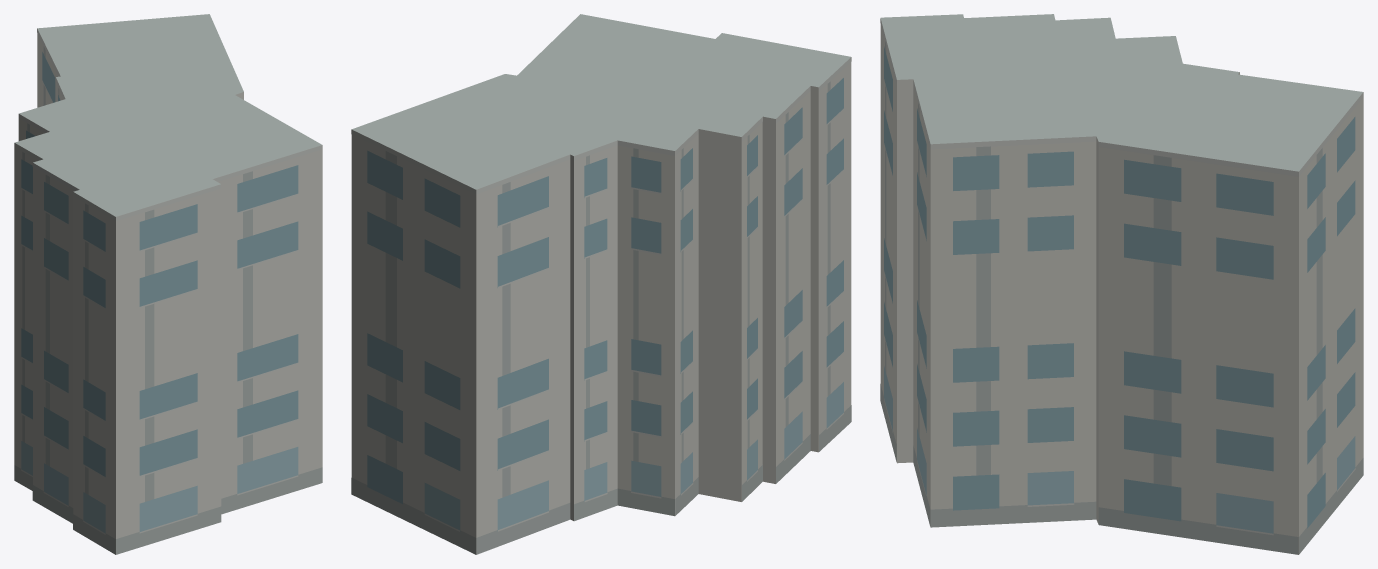
Rendered from survey-upis-32495508.glb.
3 views of the same model, side by side, from view 1: azimuth 30°, elevation 25°; view 2: azimuth 150°, elevation 25°; view 3: azimuth 270°, elevation 25° (orthographic). The views are drawn at different scales.
Visible parts, largest first — view 1: survey-upis-32495508.tmp; view 2: survey-upis-32495508.tmp; view 3: survey-upis-32495508.tmp.
Boxes of the visible parts, <box> form: survey-upis-32495508.tmp: <box>14,14,322,554</box>; survey-upis-32495508.tmp: <box>351,14,851,554</box>; survey-upis-32495508.tmp: <box>880,14,1363,554</box>.
Size of the model in its own units: 16.15 by 18.3 by 20.91.
